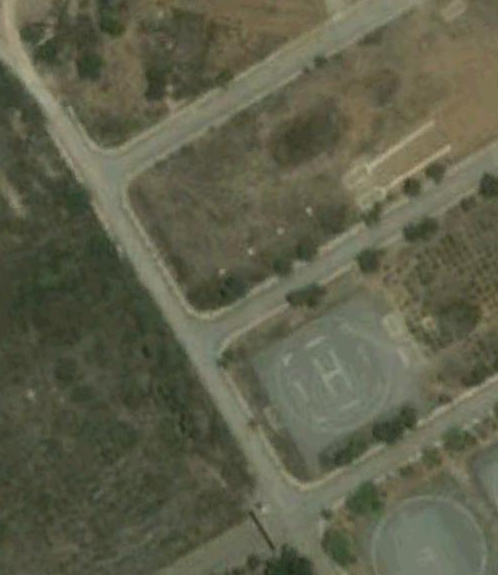heliport: (303, 345, 362, 403)
